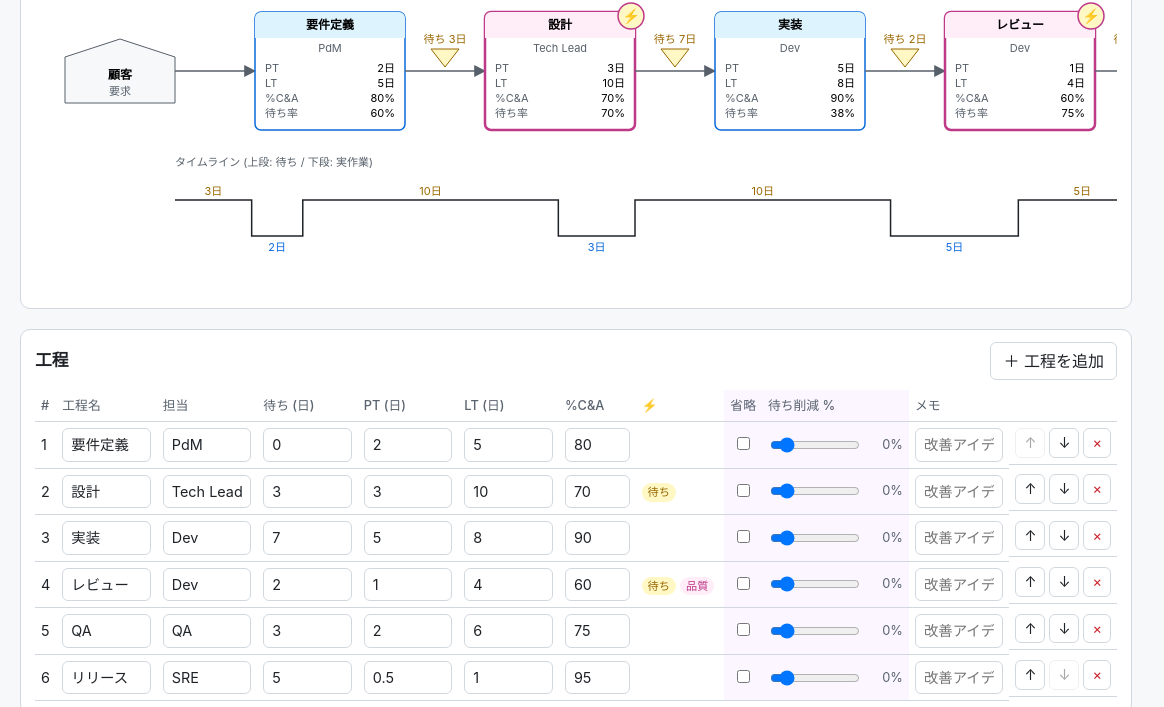
Scenario: App › 工程を追加すると行が増え、localStorage に保存される
(page scrolled)
Click the button "＋ 工程を追加" at point(1054, 361), box 990,342 -> 1117,380
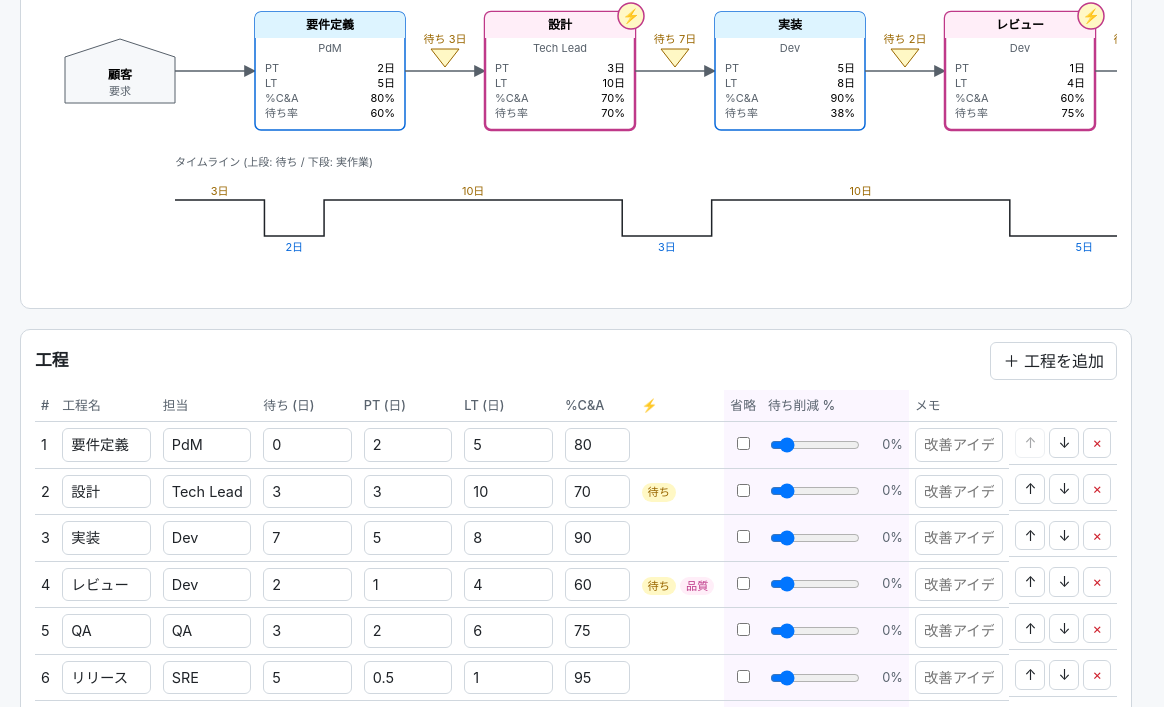
Check: the number of fields named "工程 1 の名前" is 7
